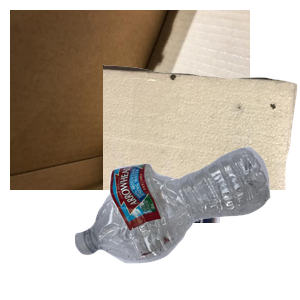cardboard: (10, 10, 250, 190)
glass: (29, 120, 242, 300)
plastic: (72, 144, 300, 300)
trash: (103, 62, 300, 242)
